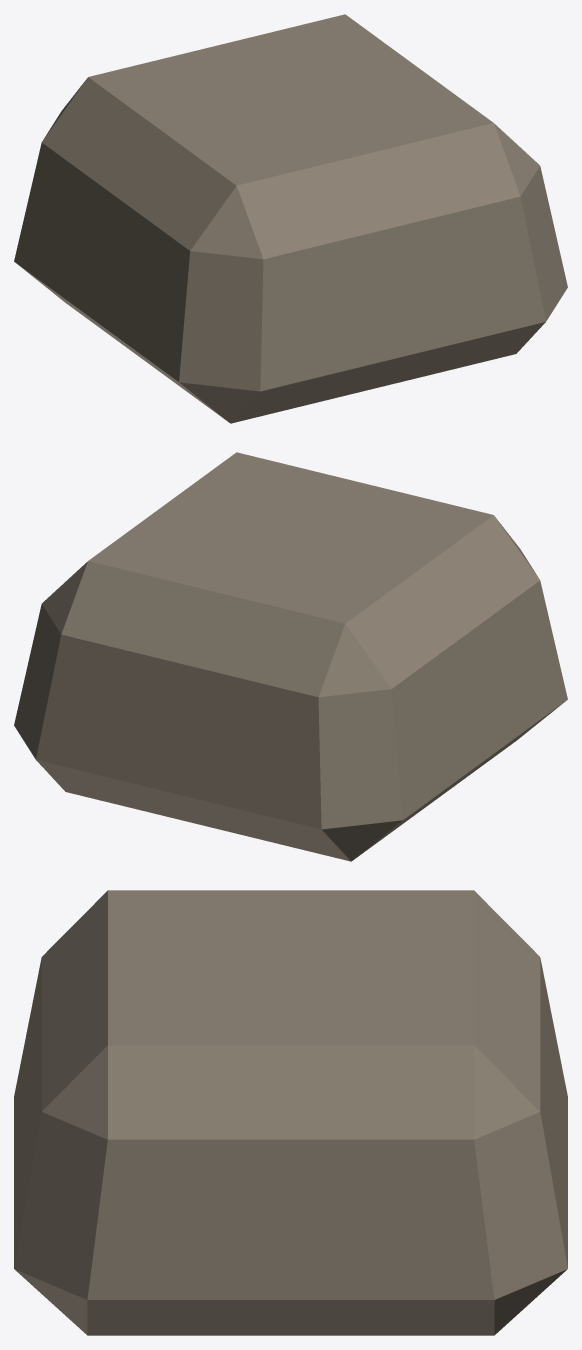
Rendered from terrain_stone.2.glb.
The picture shows the model from 3 angles, top to bottom: view 1: azimuth 30°, elevation 25°; view 2: azimuth 150°, elevation 25°; view 3: azimuth 270°, elevation 25°; orthographic projection. The views are drawn at different scales.
Parts seen in each view (by area): view 1: terrain_stone.2; view 2: terrain_stone.2; view 3: terrain_stone.2.
Boxes of the visible parts, box(x1,y1,x2,y2) form: terrain_stone.2: box(14, 14, 567, 423); terrain_stone.2: box(14, 452, 567, 861); terrain_stone.2: box(14, 890, 567, 1335).
Bounding box in the file's own units: 0.98 × 0.55 × 0.98.
